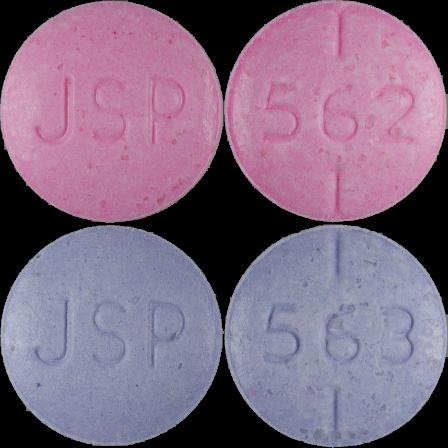68788-9165: (0, 0, 224, 224)
